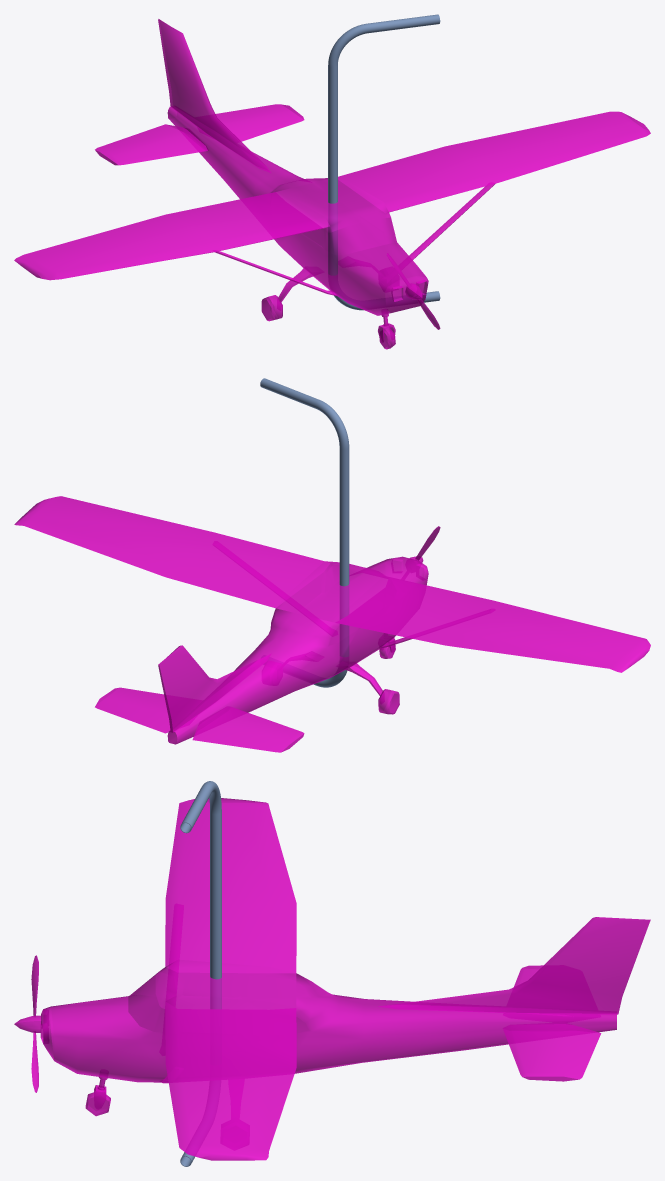
Rendered from plane_example_2.glb.
3 views of the same model, one above another, from view 1: azimuth 30°, elevation 25°; view 2: azimuth 150°, elevation 25°; view 3: azimuth 270°, elevation 25° (orthographic). The views are drawn at different scales.
Parts seen in each view (by area): view 1: awionetka.002, Tube_U_shape; view 2: awionetka.002, Tube_U_shape; view 3: awionetka.002, Tube_U_shape.
Boxes of the visible parts, box(x1,y1,x2,y2) form: awionetka.002: box(14, 19, 650, 349); Tube_U_shape: box(328, 14, 440, 310); awionetka.002: box(14, 496, 650, 752); Tube_U_shape: box(260, 378, 349, 687); awionetka.002: box(14, 798, 650, 1160); Tube_U_shape: box(180, 781, 221, 1166).
Size of the model in its own units: 0.1301 by 0.0584 by 0.0979.
